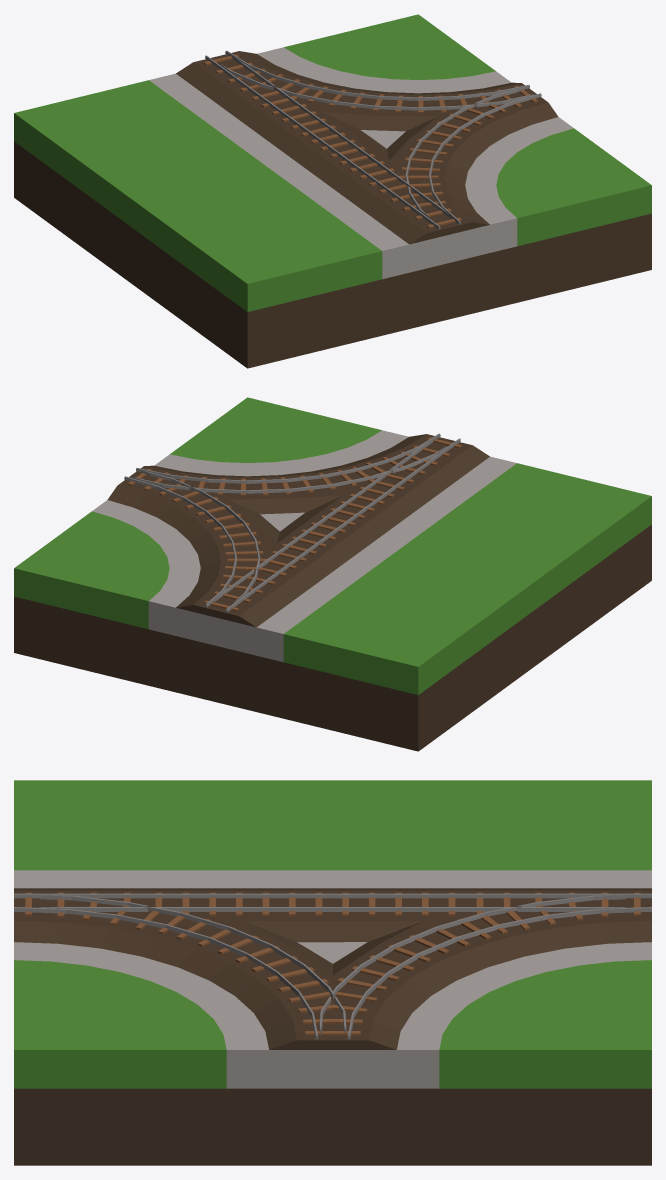
File: tile-rail-t.fbx
3 renders of one model, top to bottom at view 1: azimuth 30°, elevation 25°; view 2: azimuth 150°, elevation 25°; view 3: azimuth 270°, elevation 25°, orthographic. The views are drawn at different scales.
Parts seen in each view (by area): view 1: tile-rail-t; view 2: tile-rail-t; view 3: tile-rail-t.
Part boxes in pixels (x1,y1,x2,y2): tile-rail-t: (14, 14, 651, 368); tile-rail-t: (14, 397, 651, 751); tile-rail-t: (14, 780, 651, 1165).
Size of the model in its own units: 30 by 6.75 by 30.
